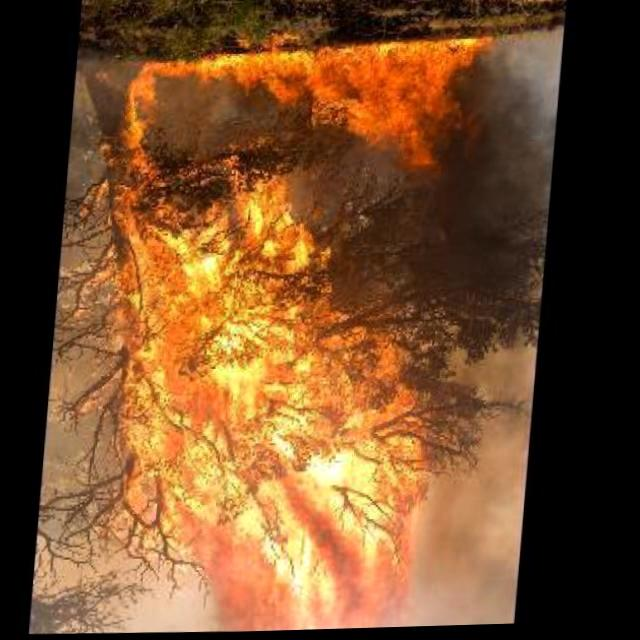fire: (70, 46, 490, 638)
